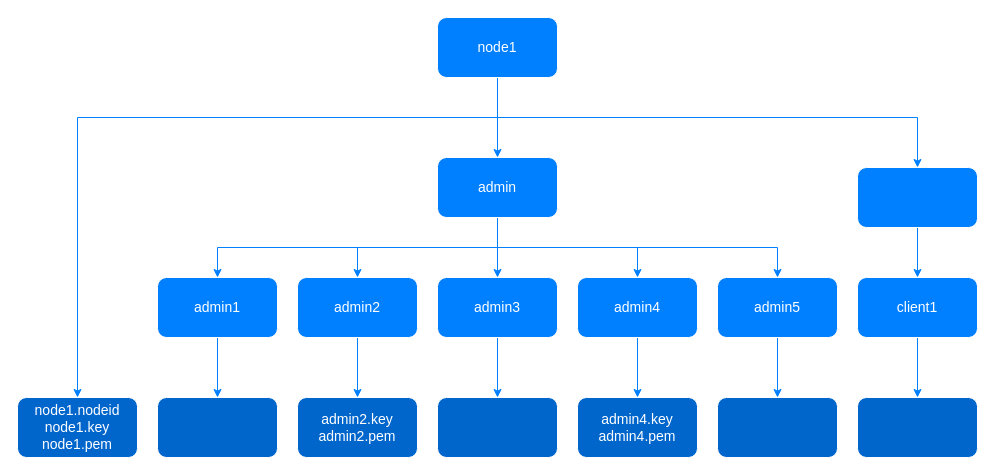
Some shapes in this 995 by 475 pixel diagram are drawn without their labels. Here are the shapes that lost their labels. From the top down, the box of each, then its label:
(856, 166, 978, 228): user
(156, 396, 278, 458): admin1.key admin1.pem
(436, 396, 558, 458): admin3.key admin3.pem
(716, 396, 838, 458): admin5.key admin5.pem
(856, 396, 978, 458): client1.addr client1.key client1.pem
